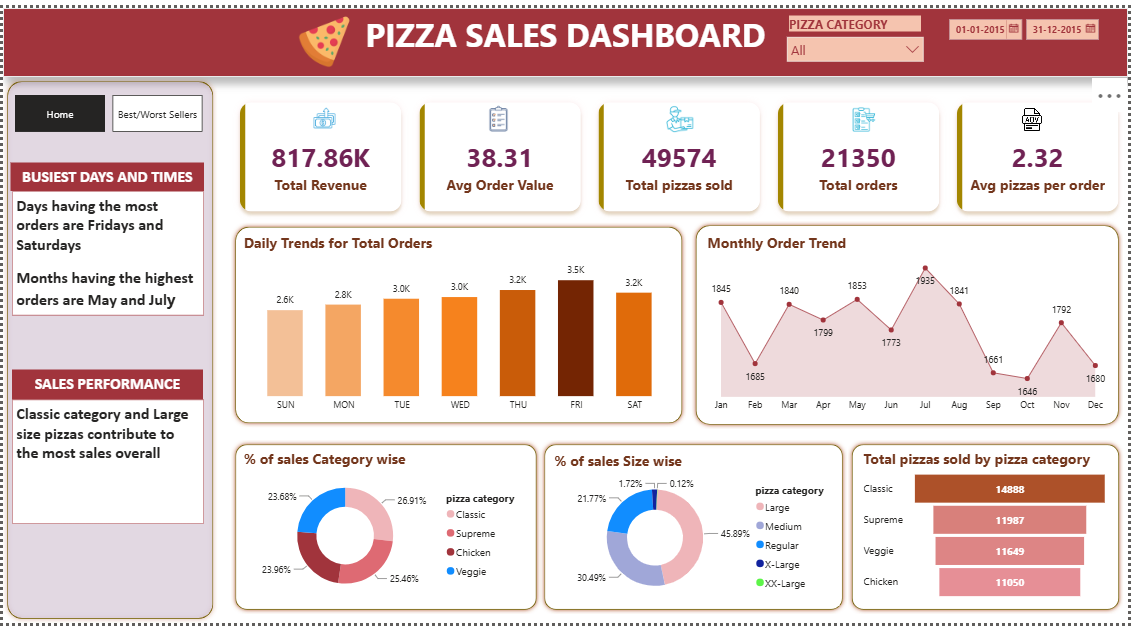

Layout of this report page (visuals, bound fields, positions):
{"tool":"powerbi","page":{"name":"Home","canvas":[1500,820],"ordinal":0},"visuals":[{"type":"shape","box":[0,0,1500,92],"z":0},{"type":"cardVisual","fields":{"Data":["pizza_sales.Total_Revenue","pizza_sales.Avg_Order_Value","pizza_sales.Total_pizzas_sold","pizza_sales.Total_orders","pizza_sales.Avg_pizzas_per_order"]},"box":[303.8,113.2,1196.2,169.8],"z":1000},{"type":"textbox","box":[0,0,1500,92],"z":2000},{"type":"image","box":[411.7,130,33.3,33.3],"z":3000},{"type":"image","box":[883.3,130,36.7,36.7],"z":4000},{"type":"image","box":[633.3,130,53.3,35],"z":5000},{"type":"image","box":[1126.7,131.7,43.3,33.3],"z":6000},{"type":"image","box":[1351.7,131.7,40,36.7],"z":7000},{"type":"image","box":[388,10,80,70],"z":8000},{"type":"shape","box":[303.8,286.8,607.5,273.6],"z":9000},{"type":"clusteredColumnChart","title":"Daily Trends for Total Orders","fields":{"Category":["pizza_sales.Order Day"],"Y":["pizza_sales.Total orders"]},"box":[315.1,300,586.8,247.2],"z":10000},{"type":"shape","box":[918.9,283,575.5,277.4],"z":11000},{"type":"areaChart","title":"Monthly Order Trend","fields":{"Y":["pizza_sales.Total orders"],"Category":["pizza_sales.Month Order"]},"box":[934,300,545.3,247.2],"z":12000},{"type":"shape","box":[303.8,575.5,413.2,232.1],"z":13000},{"type":"shape","box":[717,575.5,409.4,232.1],"z":14000},{"type":"shape","box":[1126.4,575.5,367.9,232.1],"z":15000},{"type":"donutChart","title":"% of sales Category wise ","fields":{"Category":["pizza_sales.pizza_category"],"Y":["pizza_sales.Total Revenue"]},"box":[315.1,588.7,386.8,205.7],"z":16000},{"type":"donutChart","title":"% of sales Size wise ","fields":{"Y":["pizza_sales.Total Revenue"],"Category":["pizza_sales.pizza_size"]},"box":[730,589,385,207],"z":17000},{"type":"funnel","title":"Total pizzas sold by pizza category","fields":{"Category":["pizza_sales.pizza_category"],"Y":["pizza_sales.Total pizzas sold"]},"box":[1141.7,588.3,336.7,205],"z":18000},{"type":"shape","box":[0,92,286,728],"z":19000},{"type":"textbox","box":[10,206,258,38],"z":20000},{"type":"textbox","box":[12,244,256,166],"z":21000},{"type":"textbox","box":[12.9,481.3,254.5,40.6],"z":22000},{"type":"textbox","box":[12,522,256,166],"z":23000},{"type":"slicer","fields":{"Values":["pizza_sales.pizza_category"]},"box":[1040,10,192,62],"z":24000},{"type":"slicer","fields":{"Values":["pizza_sales.order_date"]},"box":[1254,10,224,62],"z":25000},{"type":"pageNavigator","box":[16.6,116.2,250.8,49.8],"z":25001}]}

Visuals, with their boxes in screenshot pixels (x1, y1, x2, y2), scaled from the page's 1500x820 canvas onto the 1138x631 screenshot:
shape: [x1=0, y1=0, x2=1137, y2=71]
cardVisual - pizza_sales.Total_Revenue x pizza_sales.Avg_Order_Value: [x1=230, y1=87, x2=1137, y2=218]
textbox: [x1=0, y1=0, x2=1137, y2=71]
image: [x1=312, y1=100, x2=338, y2=126]
image: [x1=670, y1=100, x2=698, y2=128]
image: [x1=480, y1=100, x2=521, y2=127]
image: [x1=855, y1=101, x2=888, y2=127]
image: [x1=1025, y1=101, x2=1056, y2=130]
image: [x1=294, y1=8, x2=355, y2=62]
shape: [x1=230, y1=221, x2=691, y2=431]
"Daily Trends for Total Orders" clusteredColumnChart: [x1=239, y1=231, x2=684, y2=421]
shape: [x1=697, y1=218, x2=1134, y2=431]
"Monthly Order Trend" areaChart: [x1=709, y1=231, x2=1122, y2=421]
shape: [x1=230, y1=443, x2=544, y2=621]
shape: [x1=544, y1=443, x2=855, y2=621]
shape: [x1=855, y1=443, x2=1134, y2=621]
"% of sales Category wise " donutChart: [x1=239, y1=453, x2=533, y2=611]
"% of sales Size wise " donutChart: [x1=554, y1=453, x2=846, y2=613]
"Total pizzas sold by pizza category" funnel: [x1=866, y1=453, x2=1122, y2=610]
shape: [x1=0, y1=71, x2=217, y2=630]
textbox: [x1=8, y1=159, x2=203, y2=188]
textbox: [x1=9, y1=188, x2=203, y2=316]
textbox: [x1=10, y1=370, x2=203, y2=402]
textbox: [x1=9, y1=402, x2=203, y2=529]
slicer - pizza_sales.pizza_category: [x1=789, y1=8, x2=935, y2=55]
slicer - pizza_sales.order_date: [x1=951, y1=8, x2=1121, y2=55]
pageNavigator: [x1=13, y1=89, x2=203, y2=128]
